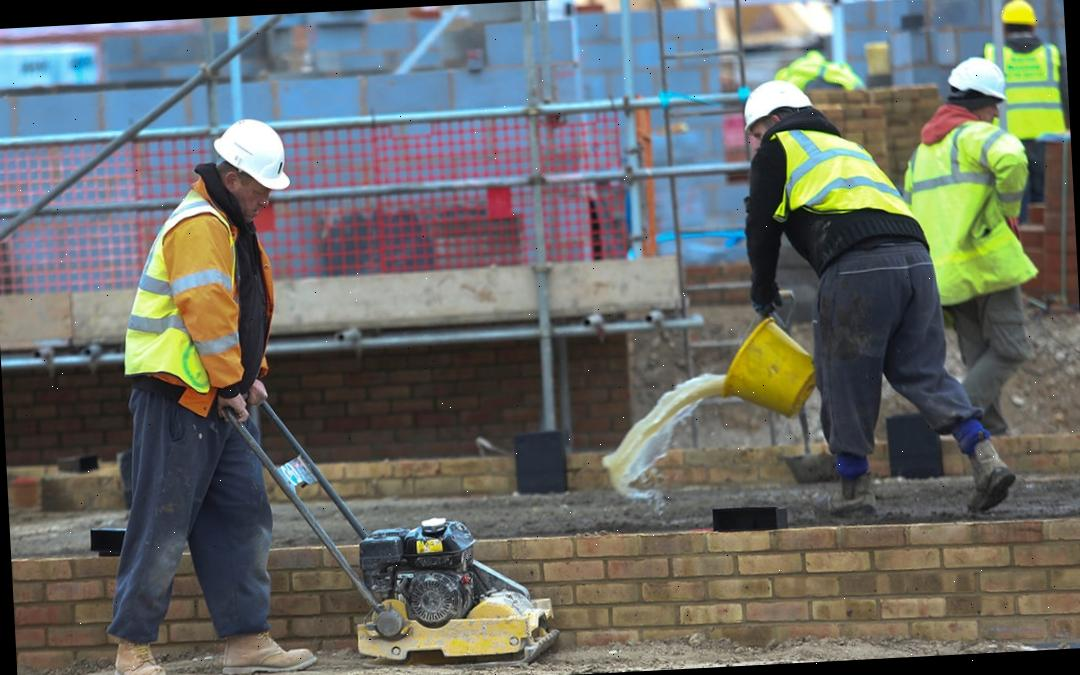helmet: (207, 115, 292, 199), (738, 76, 818, 132), (942, 56, 1004, 106)
wear: (123, 200, 266, 400), (906, 109, 1026, 282), (756, 123, 912, 246), (1001, 38, 1070, 139)
